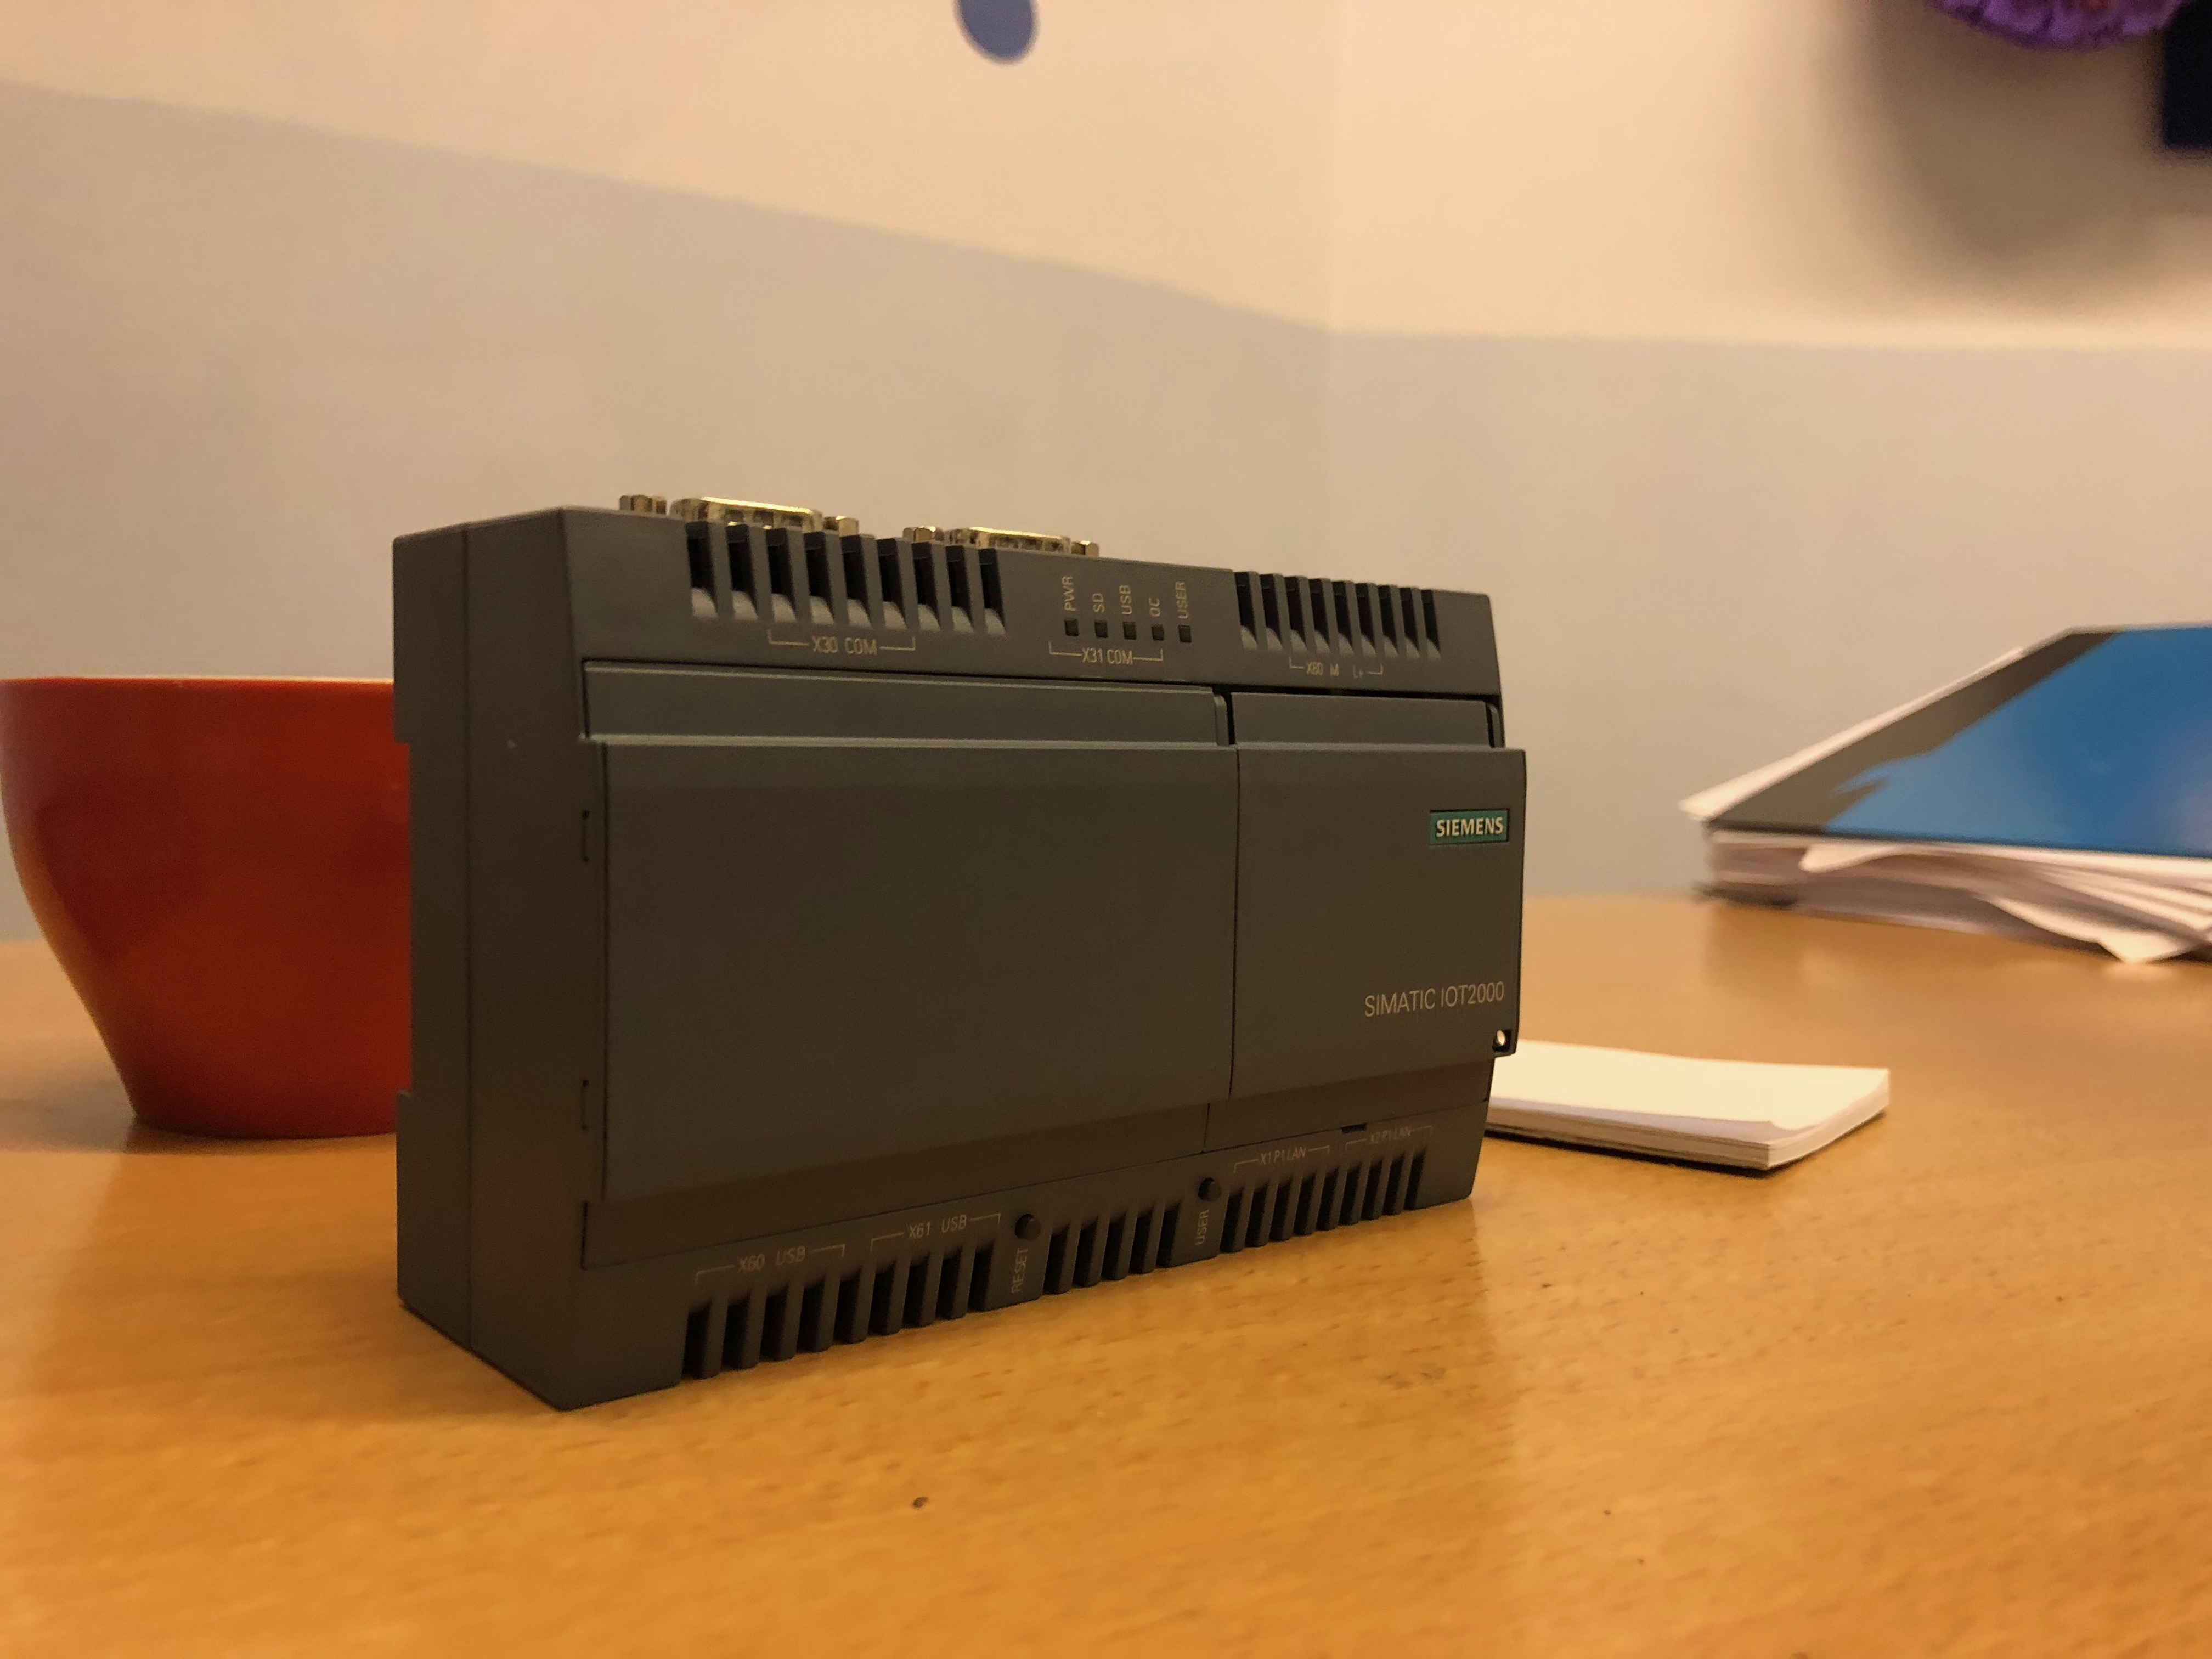device: (392, 493, 1529, 1412)
